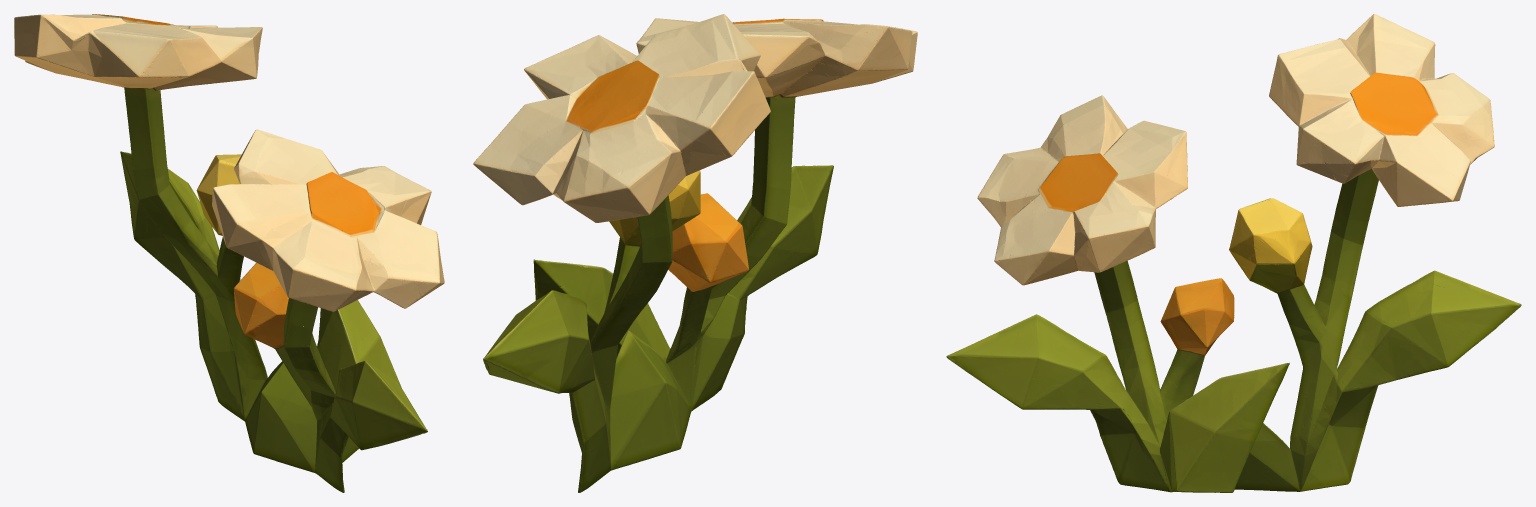
Rendered from KeepSakeFlower-v1.glb.
3 renders of one model, left to right at view 1: azimuth 30°, elevation 25°; view 2: azimuth 150°, elevation 25°; view 3: azimuth 270°, elevation 25°, orthographic. The views are drawn at different scales.
Parts seen in each view (by area): view 1: tripo_node_39dde8d2-b809-44cc-87ef-4f3737426d95; view 2: tripo_node_39dde8d2-b809-44cc-87ef-4f3737426d95; view 3: tripo_node_39dde8d2-b809-44cc-87ef-4f3737426d95.
Part boxes in pixels (left/top/right/bottom): tripo_node_39dde8d2-b809-44cc-87ef-4f3737426d95: left=14, top=14, right=444, bottom=492; tripo_node_39dde8d2-b809-44cc-87ef-4f3737426d95: left=473, top=14, right=917, bottom=492; tripo_node_39dde8d2-b809-44cc-87ef-4f3737426d95: left=946, top=14, right=1521, bottom=492.
Bounding box in the file's own units: 0.505 × 0.7413 × 0.9805.
1 material, 1 textured.
